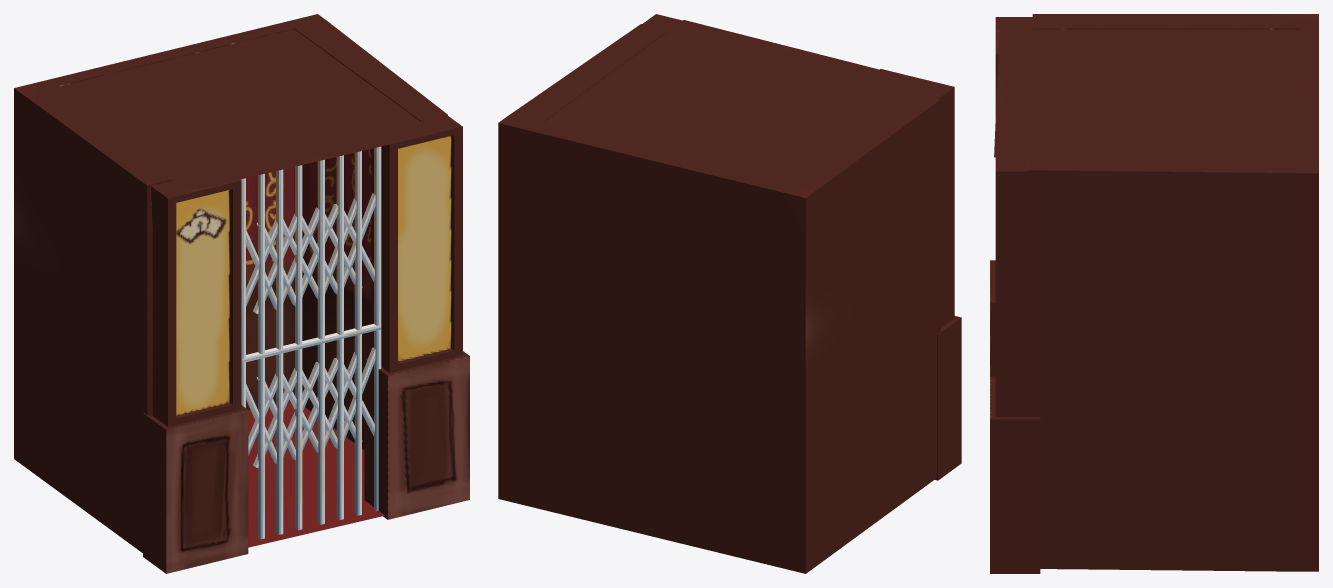
File: elevator.fbx
3 renders of one model, left to right at view 1: azimuth 30°, elevation 25°; view 2: azimuth 150°, elevation 25°; view 3: azimuth 270°, elevation 25°, orthographic. The views are drawn at different scales.
Parts seen in each view (by area): view 1: elevadorAntigo; view 2: elevadorAntigo; view 3: elevadorAntigo.
Boxes of the visible parts, <box> form: elevadorAntigo: <box>14,14,469,573</box>; elevadorAntigo: <box>498,14,961,573</box>; elevadorAntigo: <box>990,14,1318,573</box>.
Bounding box in the file's own units: 110 × 129 × 95.93.
